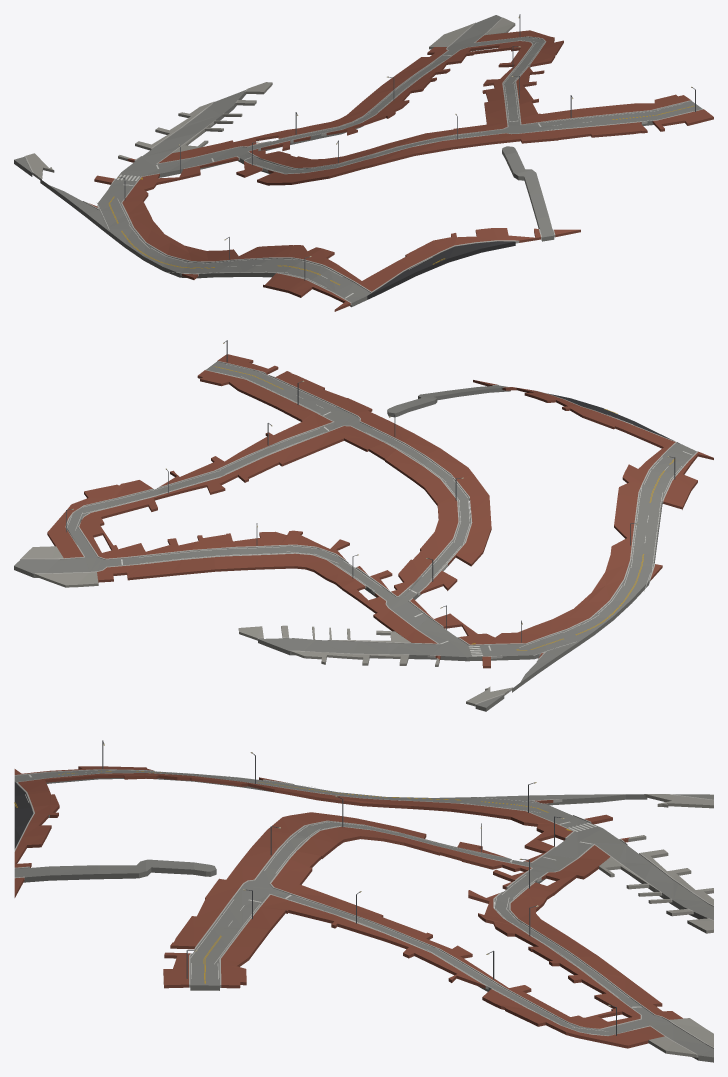
The picture shows the model from 3 angles, top to bottom: view 1: azimuth 30°, elevation 25°; view 2: azimuth 150°, elevation 25°; view 3: azimuth 270°, elevation 25°; orthographic projection. The views are drawn at different scales.
Size of the model in its own units: 148 by 33.21 by 146.
